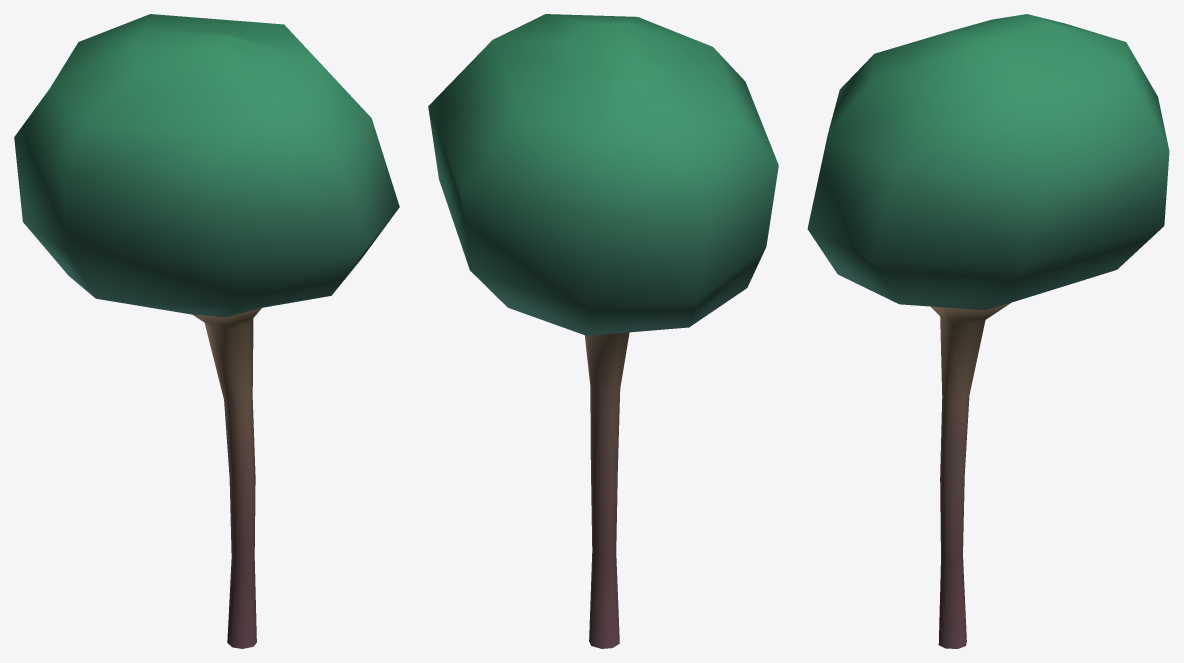
Rendered from Tree_D.fbx.
The picture shows the model from 3 angles, left to right: view 1: azimuth 30°, elevation 25°; view 2: azimuth 150°, elevation 25°; view 3: azimuth 270°, elevation 25°; orthographic projection. The views are drawn at different scales.
Parts seen in each view (by area): view 1: MDL_Tree_D; view 2: MDL_Tree_D; view 3: MDL_Tree_D.
Part boxes in pixels (bbox=[...]): MDL_Tree_D: bbox=[14, 14, 399, 648]; MDL_Tree_D: bbox=[428, 14, 778, 648]; MDL_Tree_D: bbox=[807, 14, 1169, 648].
Bounding box in the file's own units: 2.05 × 3.96 × 2.16.
